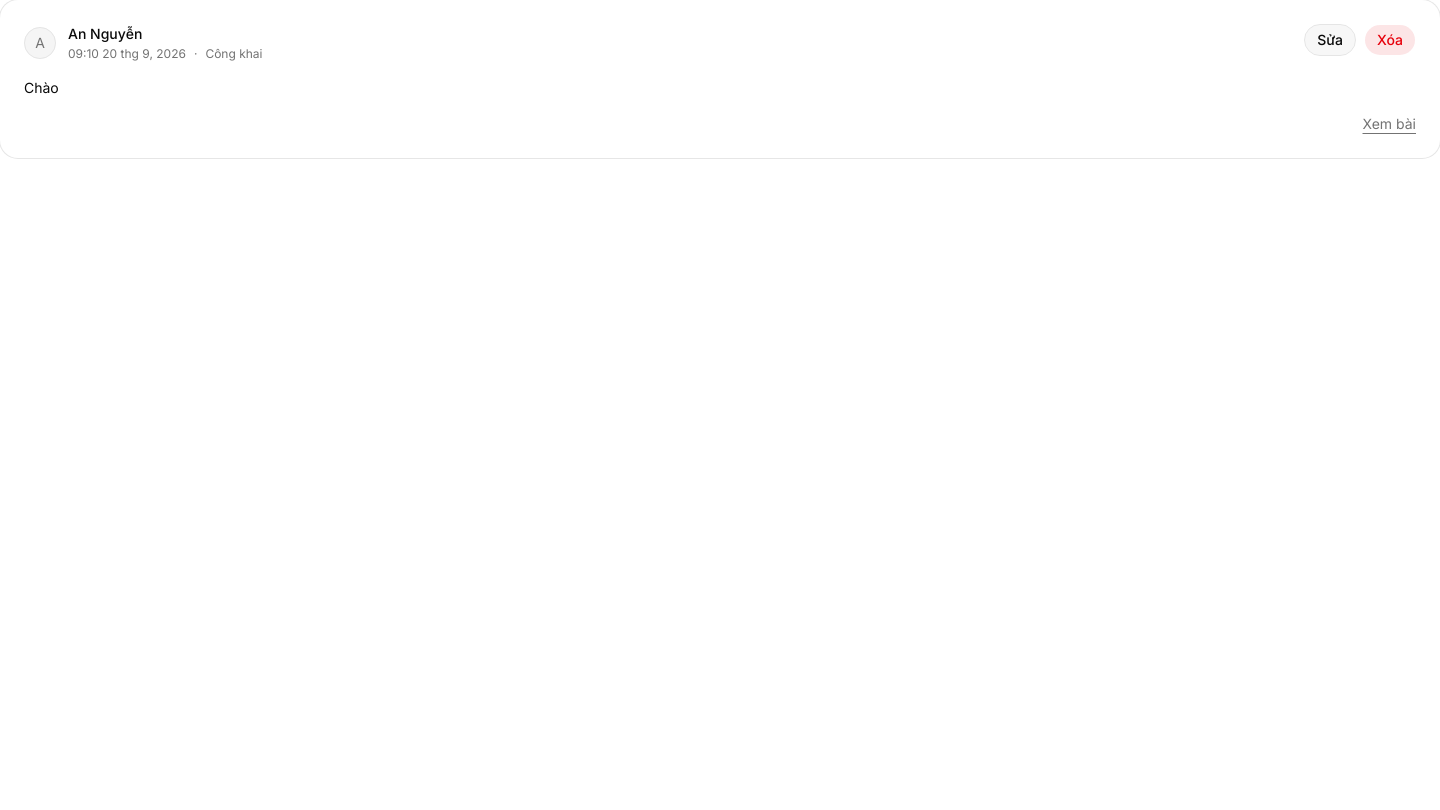
Test: PostItem — sửa bài › 200 → thoát chế độ sửa và trả bài MỚI ra ngoài, có `editedAt`
Click the button "Sửa". click: (1330, 40)
box: [1304, 24, 1356, 56]
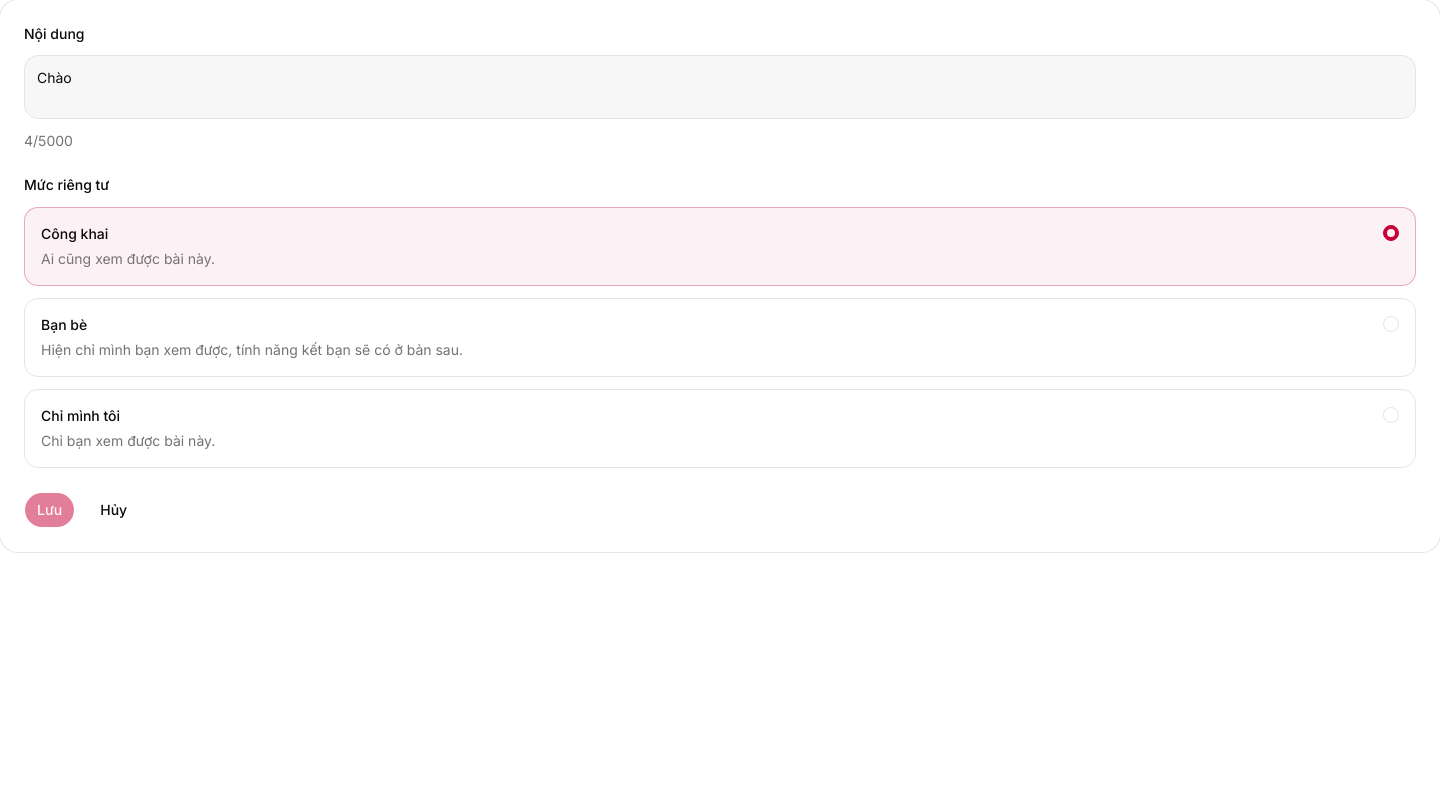
Type "!" into the text box labelled "Nội dung". click: (720, 87)
box: [24, 55, 1416, 119]
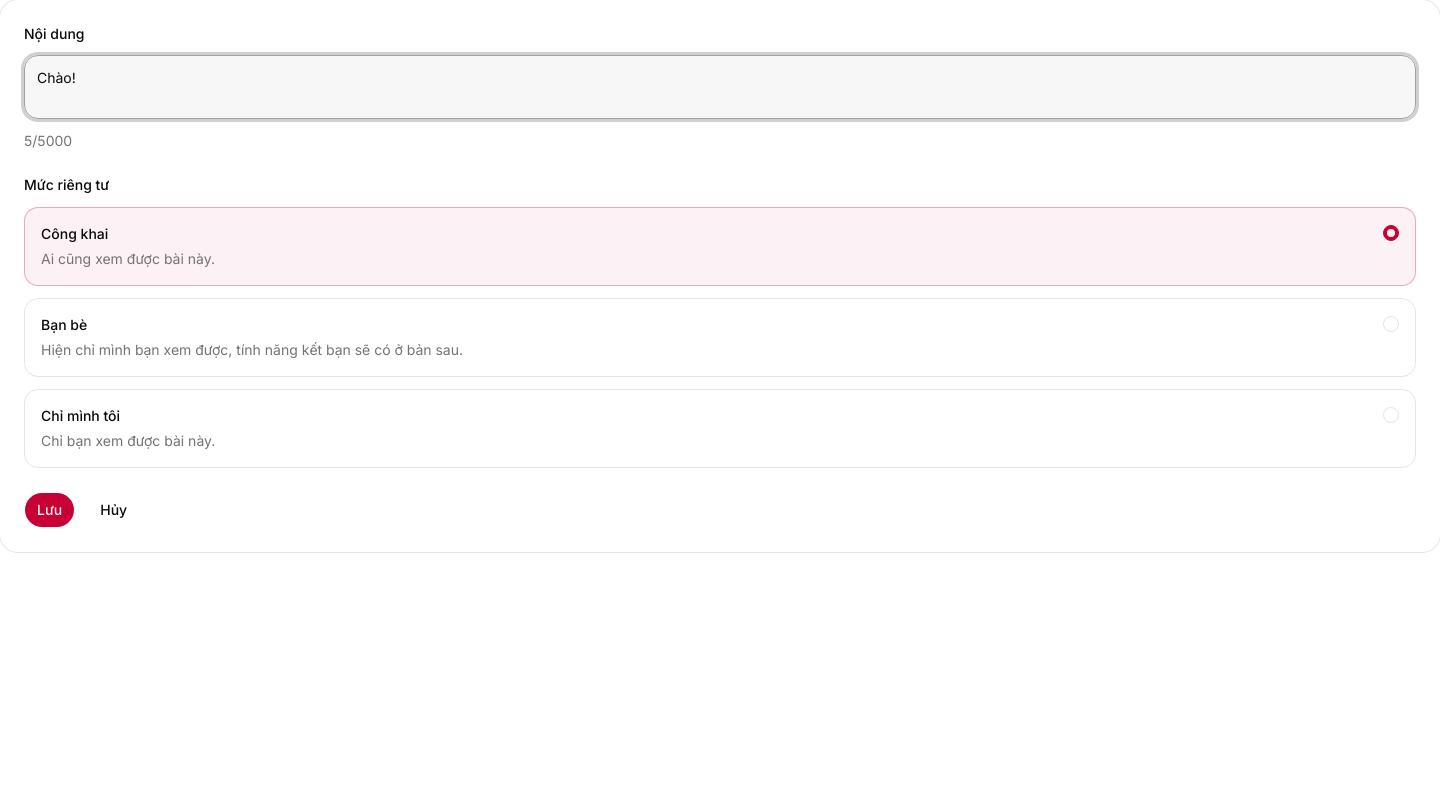
Click the button "Lưu". click: (50, 510)
box: [24, 492, 75, 528]
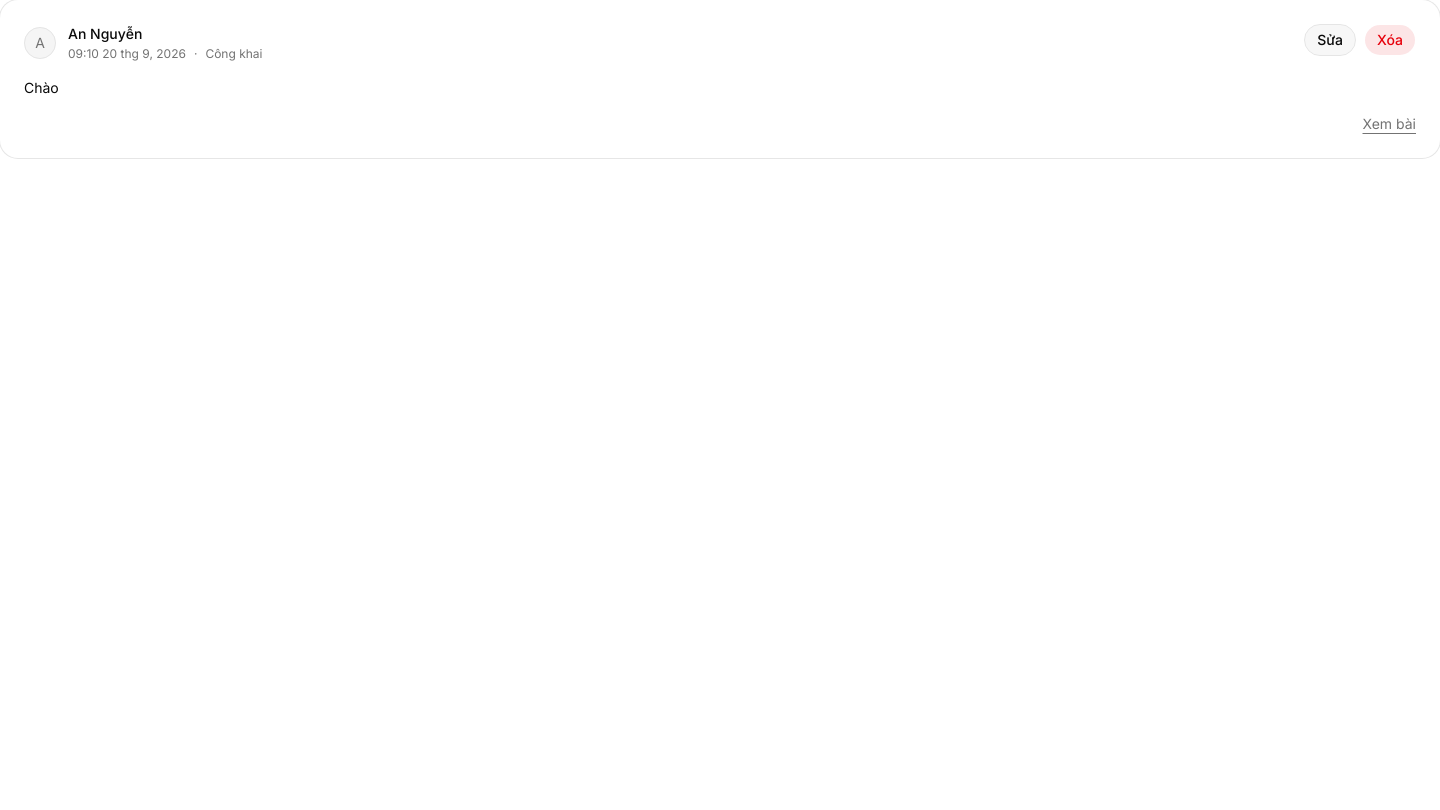
Now the element with test id "post-edit-form" is gone
